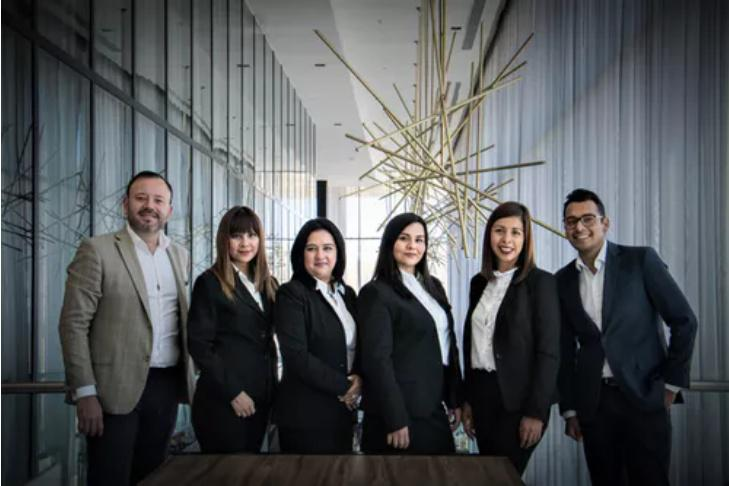face: (128, 178, 170, 232), (489, 215, 524, 261), (566, 201, 600, 248), (304, 229, 338, 275), (392, 222, 426, 265), (227, 224, 259, 263)
